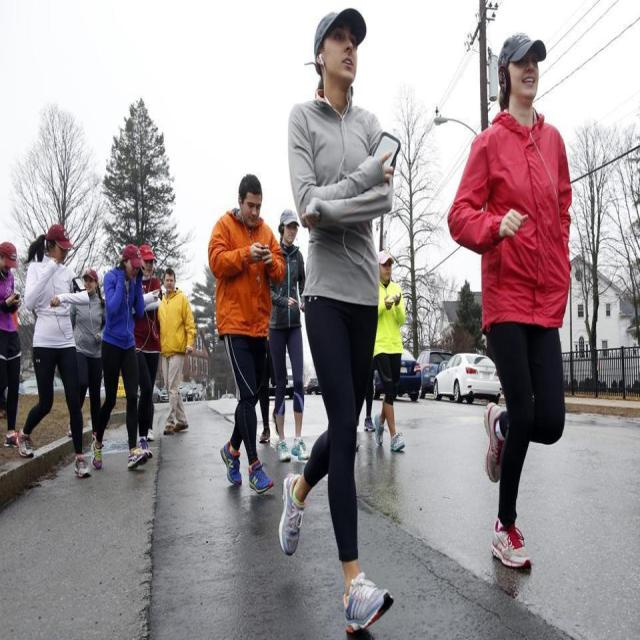body: (274, 3, 403, 639), (444, 29, 575, 574), (205, 170, 287, 496), (14, 222, 92, 479), (89, 242, 149, 473), (266, 206, 311, 464), (64, 266, 109, 450), (156, 265, 198, 437), (373, 248, 407, 455), (134, 243, 163, 460), (0, 239, 23, 449), (257, 326, 284, 443), (0, 304, 21, 421), (364, 380, 376, 435)
